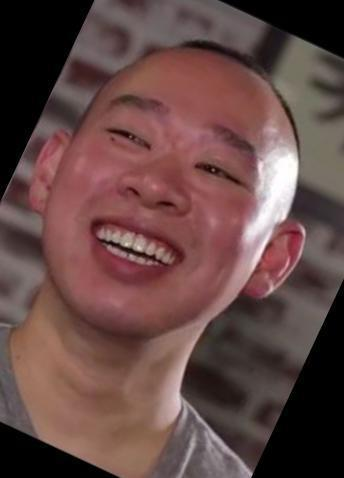Drunk: (64, 74, 260, 317)
